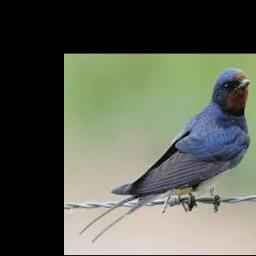Swallow: (79, 68, 251, 243)
